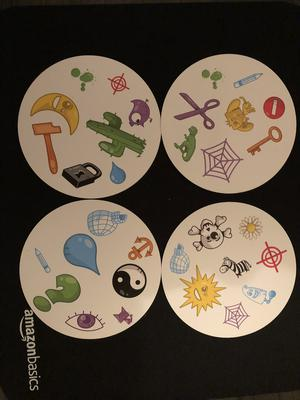chien: (220, 94, 257, 134)
fleur: (238, 213, 264, 244)
sens_interdit: (259, 94, 285, 122)
toile: (201, 138, 243, 181), (220, 299, 251, 329)
zebre: (218, 253, 253, 278)
